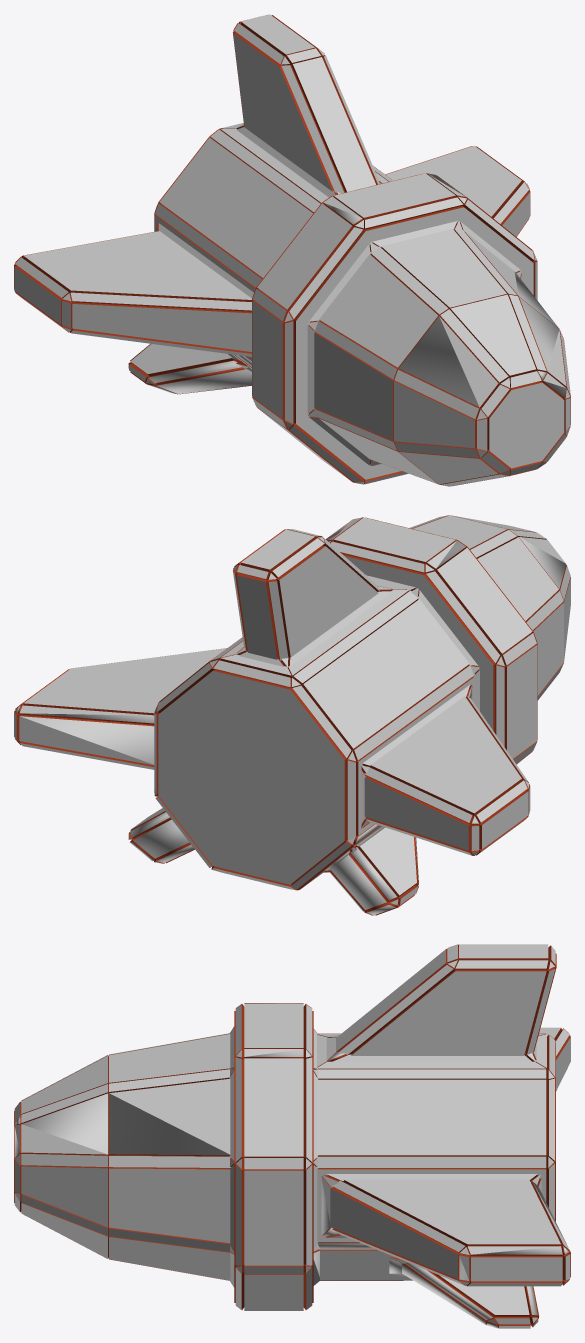
File: bullet.obj
3 renders of one model, top to bottom at view 1: azimuth 30°, elevation 25°; view 2: azimuth 150°, elevation 25°; view 3: azimuth 270°, elevation 25°, orthographic.
Parts seen in each view (by area): view 1: bullet; view 2: bullet; view 3: bullet.
Boxes of the visible parts, x1=… form: bullet: x1=14, y1=14, x2=570, y2=486; bullet: x1=14, y1=515, x2=570, y2=915; bullet: x1=14, y1=944, x2=570, y2=1328.
Bounding box in the file's own units: 1.54 × 1.08 × 1.62.
